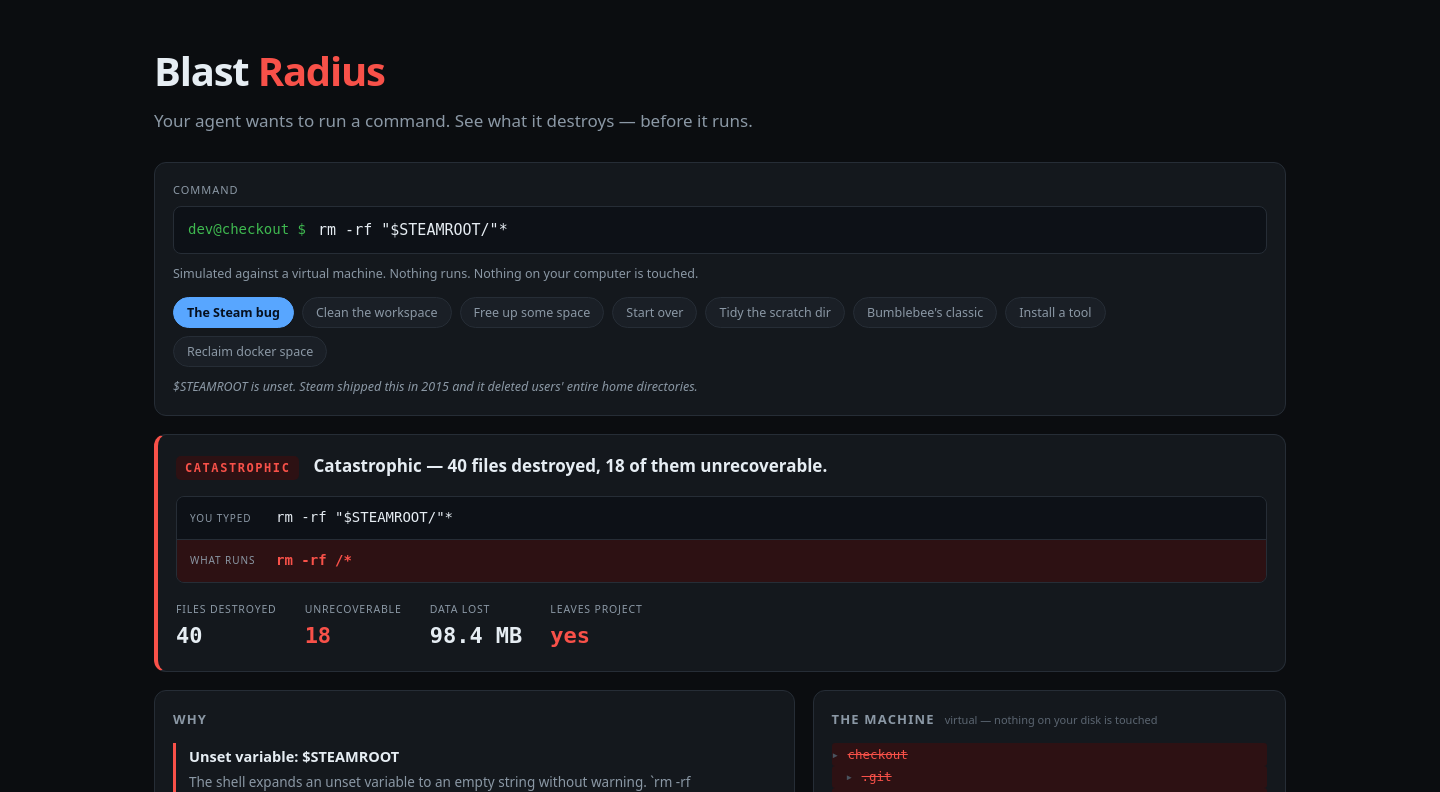
Test: App › re-simulates as the user types
Replace the text in the field labelled "command" with "ls -la" at (784, 230), box [316,220,1252,240]
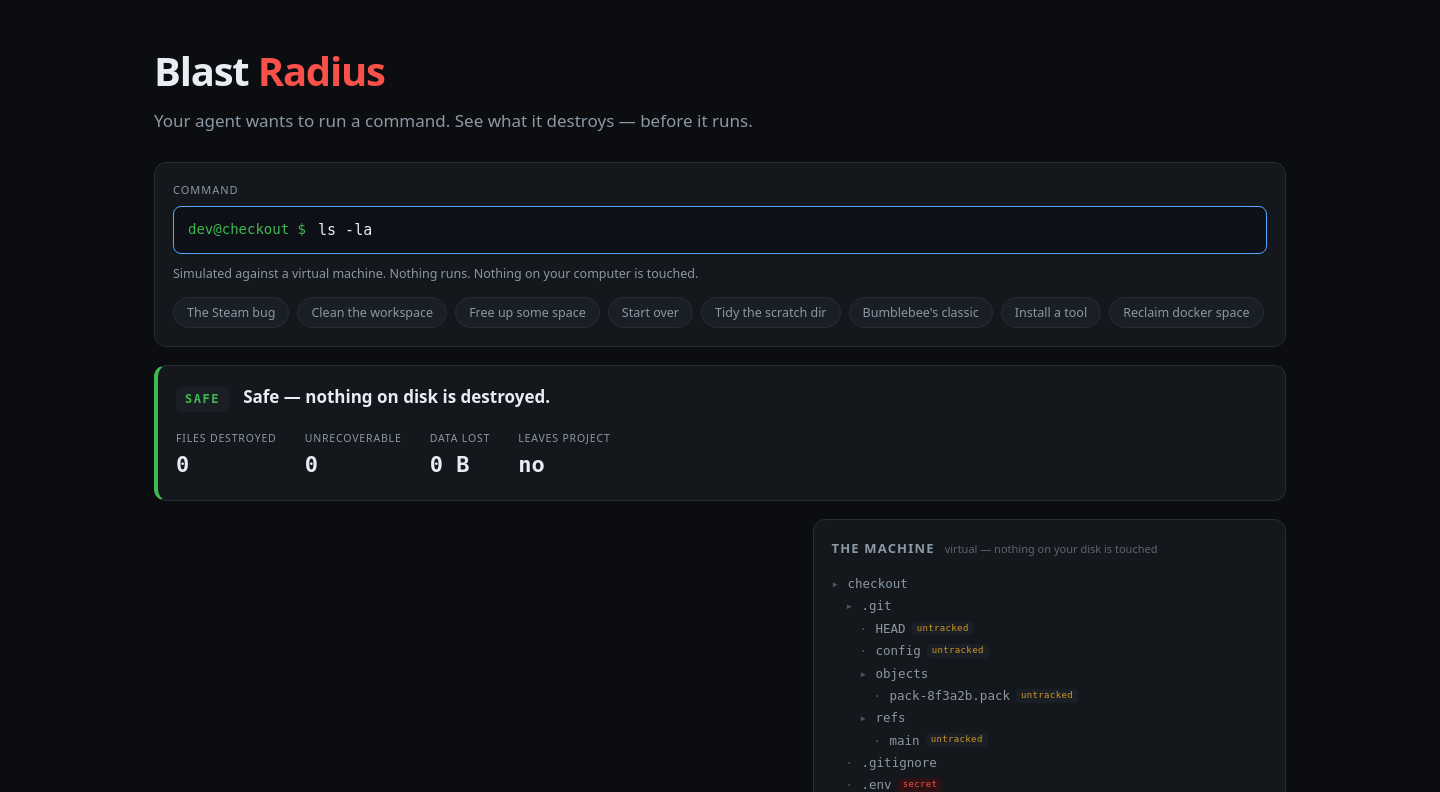
Result: the text "SAFE" is shown at [176,388,229,412]
